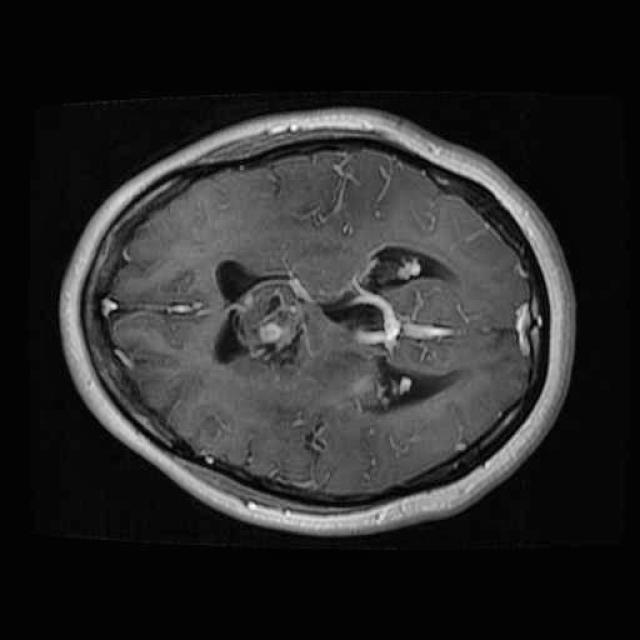Non-Tumor: (226, 260, 394, 424)
